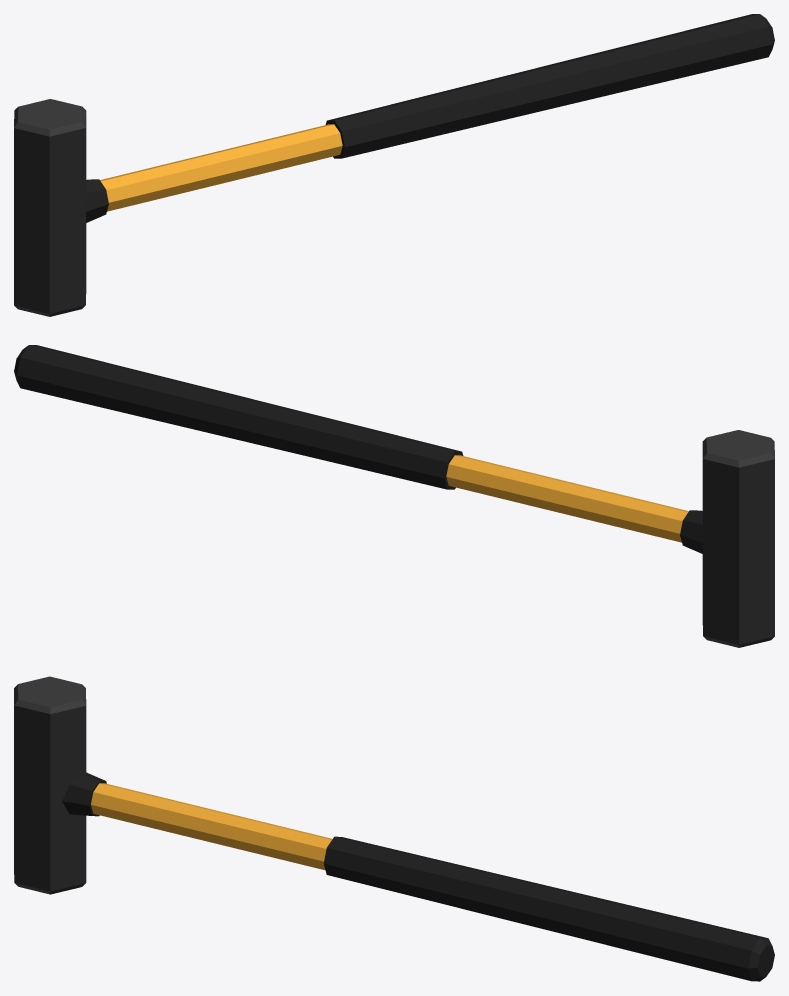
The model's file is Sledgehammer.fbx.
3 renders of one model, top to bottom at view 1: azimuth 30°, elevation 25°; view 2: azimuth 150°, elevation 25°; view 3: azimuth 330°, elevation 25°, orthographic.
Parts seen in each view (by area): view 1: SledgeHammer; view 2: SledgeHammer; view 3: SledgeHammer.
Part boxes in pixels (bbox=[...]): SledgeHammer: bbox=[14, 14, 774, 316]; SledgeHammer: bbox=[14, 345, 774, 647]; SledgeHammer: bbox=[14, 676, 774, 981].
Bounding box in the file's own units: 1365 × 324 × 112.
1 material, 1 textured.
